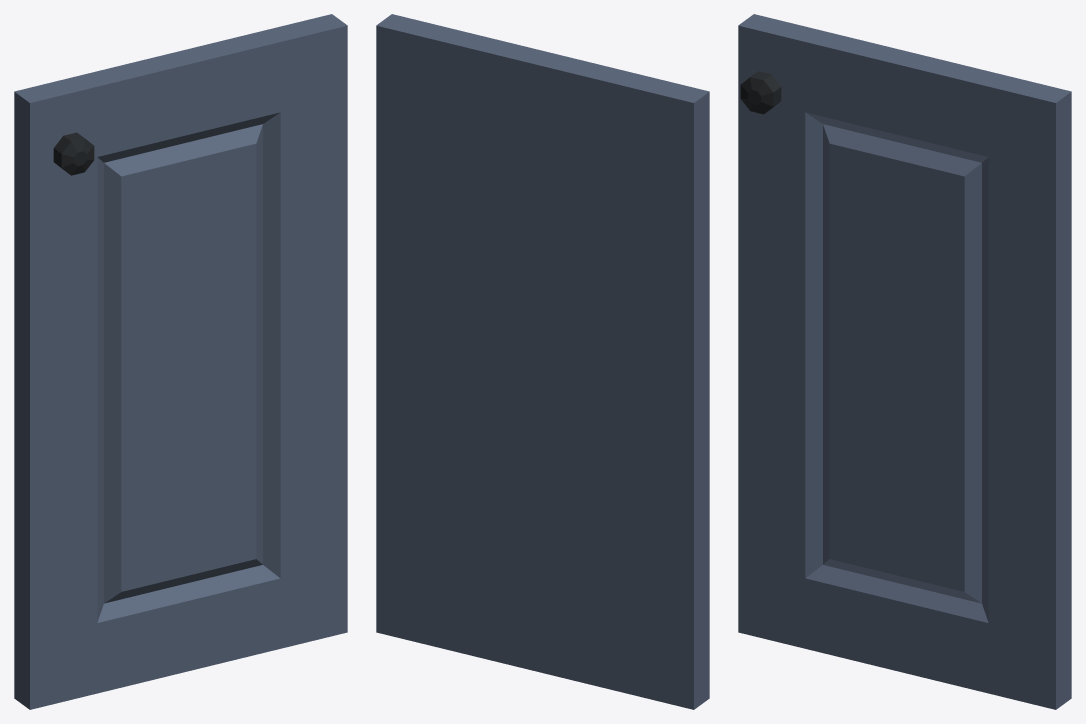
File: Door3_C4_09.fbx
The picture shows the model from 3 angles, left to right: view 1: azimuth 30°, elevation 25°; view 2: azimuth 150°, elevation 25°; view 3: azimuth 330°, elevation 25°; orthographic projection.
Visible parts, largest first — view 1: Door3_C4_09; view 2: Door3_C4_09; view 3: Door3_C4_09.
Boxes of the visible parts, x1,y1,x2,y2 form: Door3_C4_09: [14, 14, 347, 709]; Door3_C4_09: [376, 14, 709, 709]; Door3_C4_09: [738, 14, 1071, 709].
Size of the model in its own units: 29 by 52.92 by 5.19.
